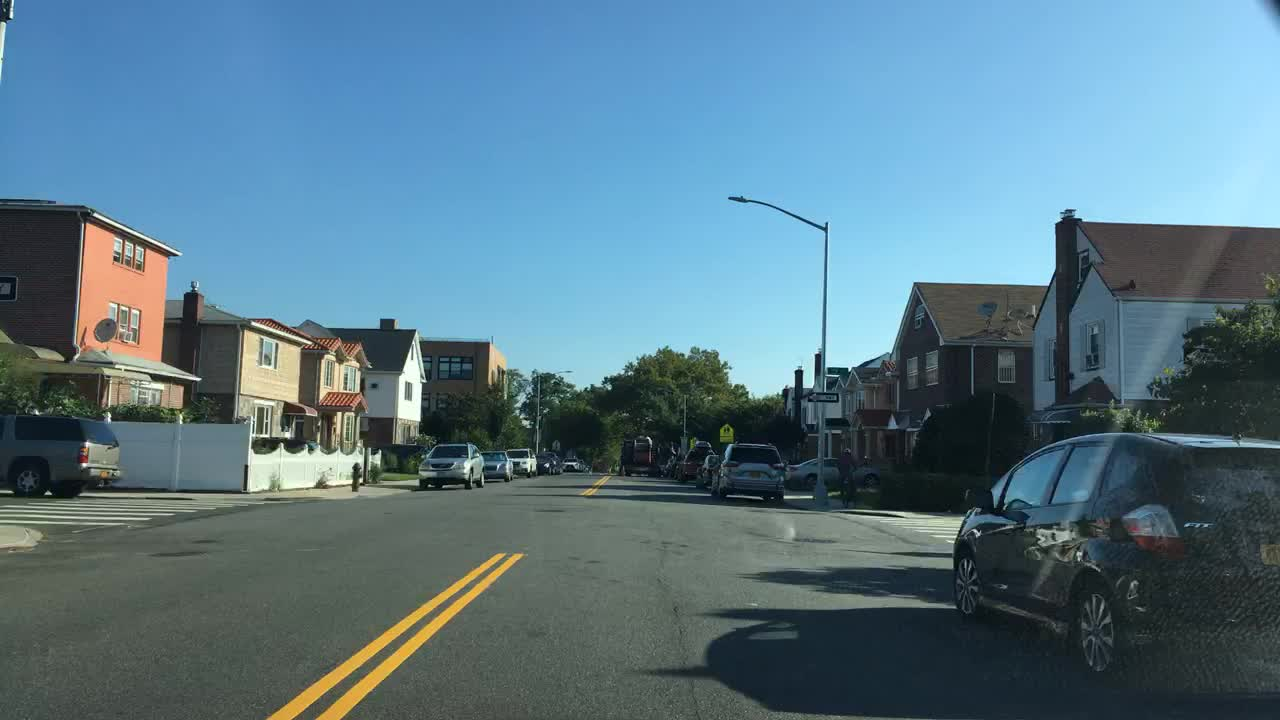bike: (834, 464, 863, 507)
car: (950, 429, 1278, 698), (0, 409, 119, 498), (711, 441, 787, 504), (785, 454, 882, 493), (416, 440, 484, 490), (677, 440, 715, 483), (476, 448, 516, 483), (505, 445, 541, 480), (696, 453, 722, 489), (660, 449, 683, 480), (533, 452, 555, 480), (560, 456, 583, 473), (550, 454, 565, 478), (575, 456, 587, 474), (583, 462, 593, 476)
rider: (835, 446, 860, 501)
traffic sign: (806, 391, 837, 404), (719, 423, 734, 445), (550, 437, 562, 454), (532, 428, 543, 445), (689, 434, 700, 449)
truck: (619, 433, 652, 475), (650, 443, 678, 475)
